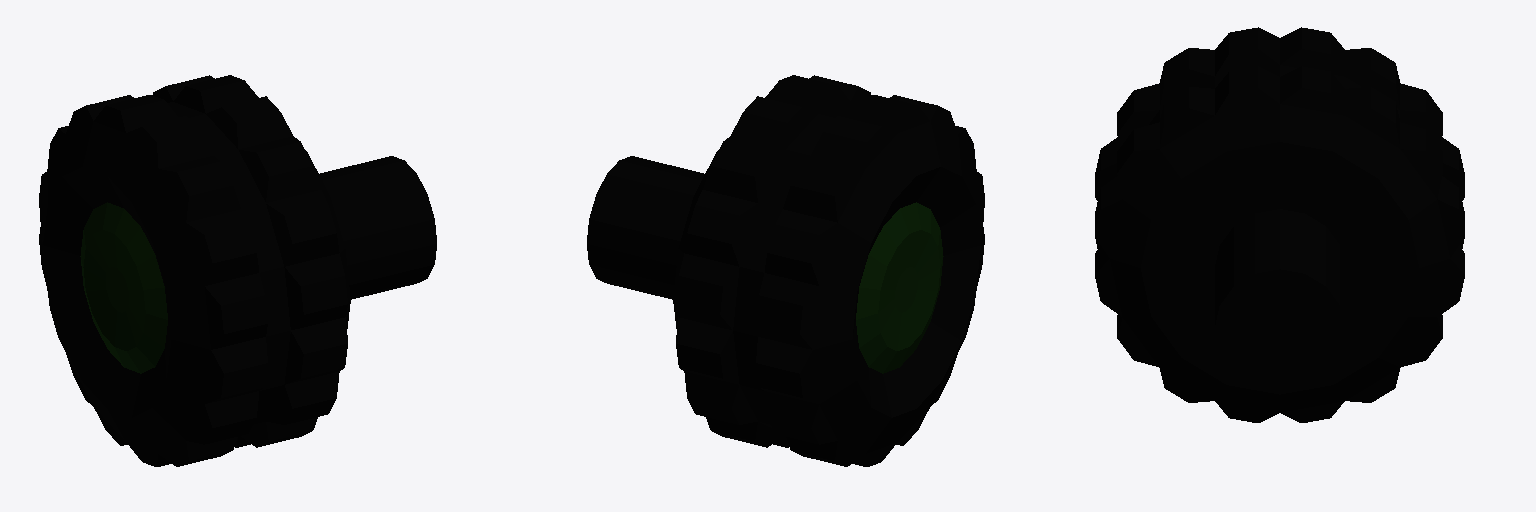
The model's file is wheel.obj.
3 renders of one model, left to right at view 1: azimuth 30°, elevation 25°; view 2: azimuth 150°, elevation 25°; view 3: azimuth 270°, elevation 25°, orthographic.
Parts seen in each view (by area): view 1: Cylinder.028_Cylinder.020; view 2: Cylinder.028_Cylinder.020; view 3: Cylinder.028_Cylinder.020.
Part boxes in pixels (left/top/right/bottom): Cylinder.028_Cylinder.020: left=39, top=75, right=436, bottom=466; Cylinder.028_Cylinder.020: left=587, top=75, right=984, bottom=466; Cylinder.028_Cylinder.020: left=1095, top=27, right=1464, bottom=422.
Size of the model in its own units: 2.15 by 2.31 by 2.31.